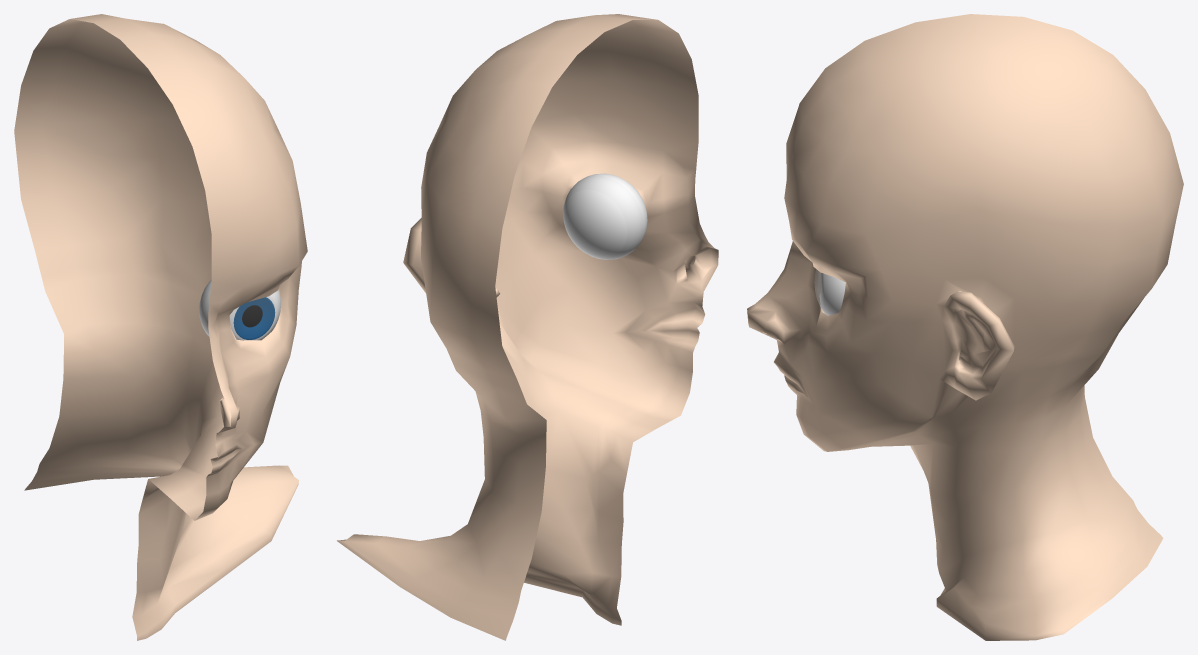
File: Cartoon Head5.gltf
The picture shows the model from 3 angles, left to right: view 1: azimuth 30°, elevation 25°; view 2: azimuth 150°, elevation 25°; view 3: azimuth 270°, elevation 25°; orthographic projection. The views are drawn at different scales.
Parts seen in each view (by area): view 1: Suzanne, Eye Inner, Eye Outer; view 2: Suzanne, Eye Inner, Eye Outer; view 3: Suzanne, Eye Inner.
Boxes of the visible parts, x1,y1,x2,y2 form: Suzanne: [14, 14, 307, 640]; Eye Inner: [199, 280, 281, 340]; Eye Outer: [199, 280, 274, 339]; Suzanne: [337, 14, 718, 640]; Eye Inner: [563, 173, 647, 259]; Eye Outer: [563, 176, 643, 259]; Suzanne: [747, 14, 1183, 640]; Eye Inner: [820, 272, 845, 315].
Size of the model in its own units: 0.1725 by 0.4531 by 0.3028.
